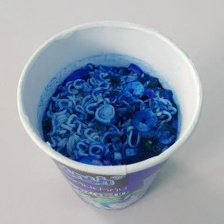paper_cup: (12, 15, 207, 214)
